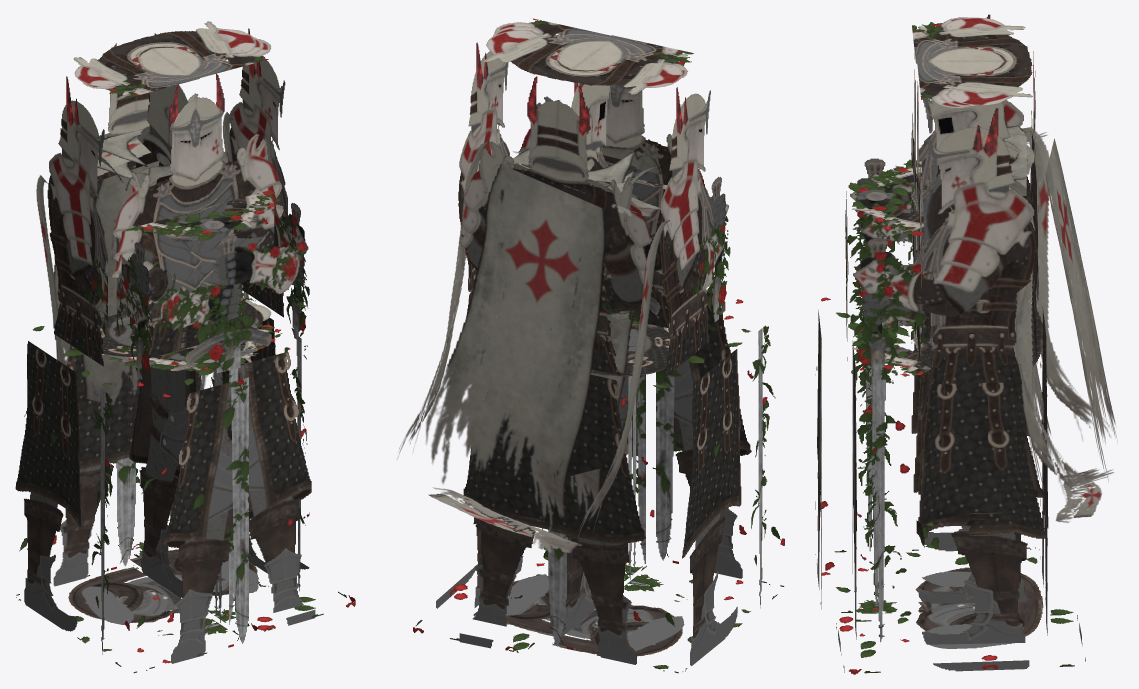
The model's file is knight-1024.glb.
3 views of the same model, side by side, from view 1: azimuth 30°, elevation 25°; view 2: azimuth 150°, elevation 25°; view 3: azimuth 270°, elevation 25° (orthographic). The views are drawn at different scales.
Visible parts, largest first — view 1: box_impostor (×3); view 2: box_impostor (×3); view 3: box_impostor (×3).
Boxes of the visible parts, x1=… form: box_impostor (×3): x1=15, y1=21, x2=355, y2=672; box_impostor (×3): x1=397, y1=18, x2=784, y2=673; box_impostor (×3): x1=815, y1=14, x2=1117, y2=674.
Size of the model in its own units: 1.31 by 2.67 by 1.37.
3 materials, 3 textured.
